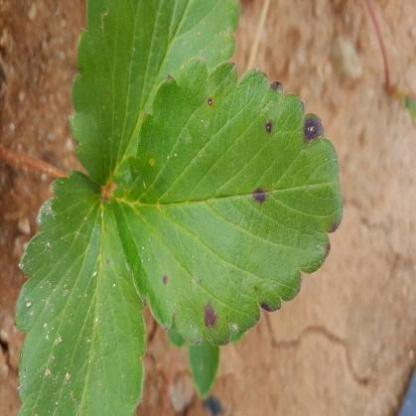Strawberry_Leaf_Spot: (107, 53, 344, 346), (14, 170, 147, 415)
